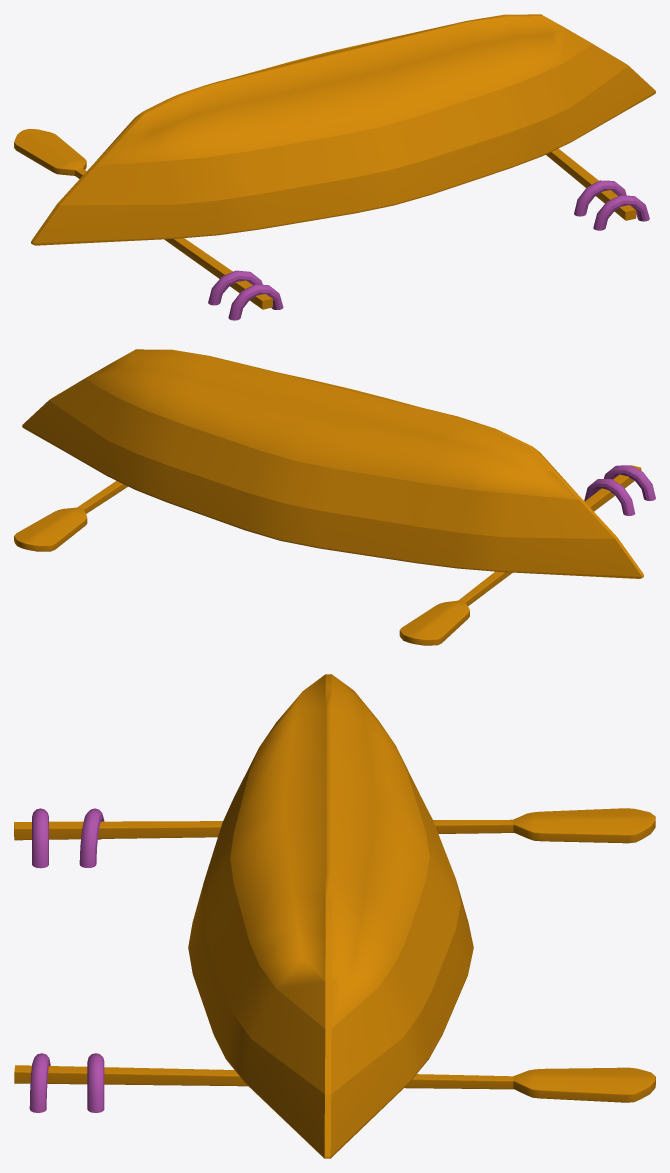
Rendered from SM_boat_R.fbx.
The picture shows the model from 3 angles, top to bottom: view 1: azimuth 30°, elevation 25°; view 2: azimuth 150°, elevation 25°; view 3: azimuth 270°, elevation 25°; orthographic projection. The views are drawn at different scales.
Visible parts, largest first — view 1: SM_boat; view 2: SM_boat; view 3: SM_boat.
Boxes of the visible parts, bbox=[...] form: SM_boat: bbox=[14, 14, 655, 320]; SM_boat: bbox=[14, 349, 655, 645]; SM_boat: bbox=[14, 674, 655, 1158].
Bounding box in the file's own units: 3.38 × 0.7106 × 2.2.
